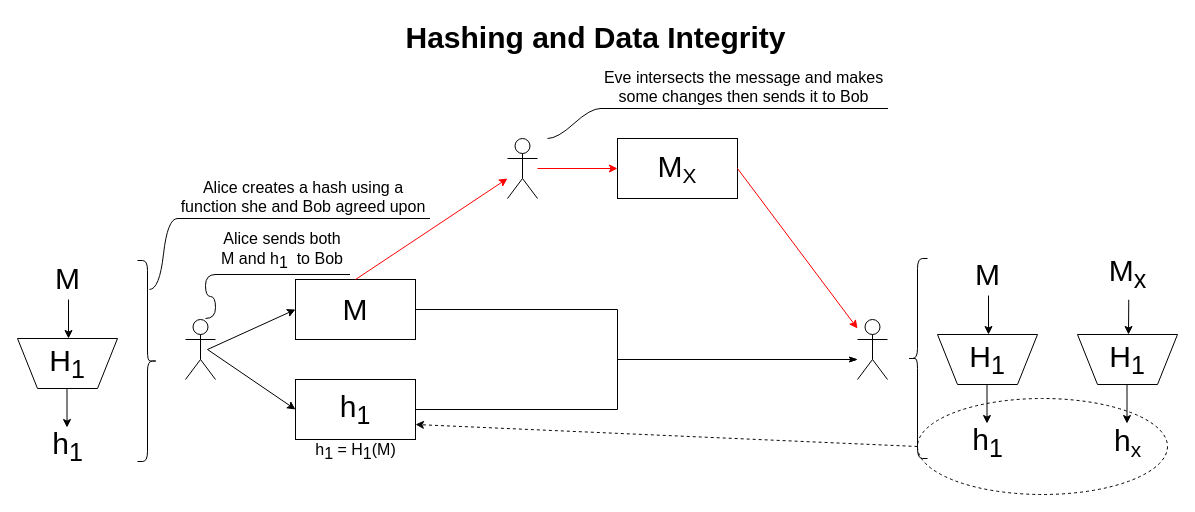
Some shapes in this 1195 by 512 pixel diagram are drawn without their labels. The box of each missing label's shape, as (x1, y1, x2, y2) in pixels:
Alice: (184, 318, 216, 380)
Bob: (856, 318, 888, 380)
Eve: (506, 138, 538, 198)
